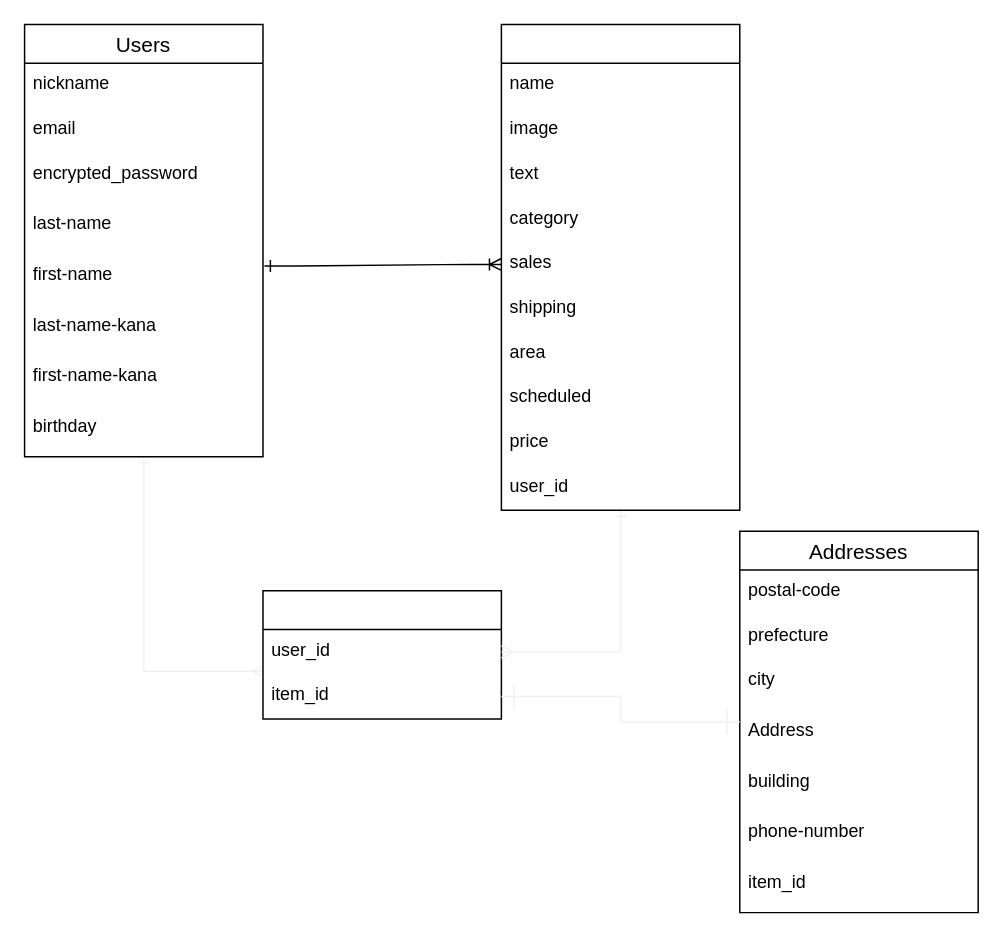
Some shapes in this 1003 by 937 pixel diagram are drawn without their labels. Each missing label, with the box of its shape:
Items: (500, 23, 740, 510)
Purchases(購入記録): (261, 589, 501, 719)
